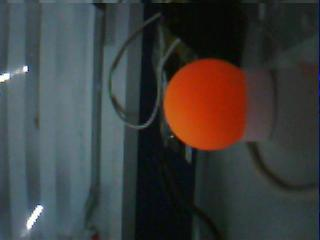oball: (163, 59, 248, 152)
